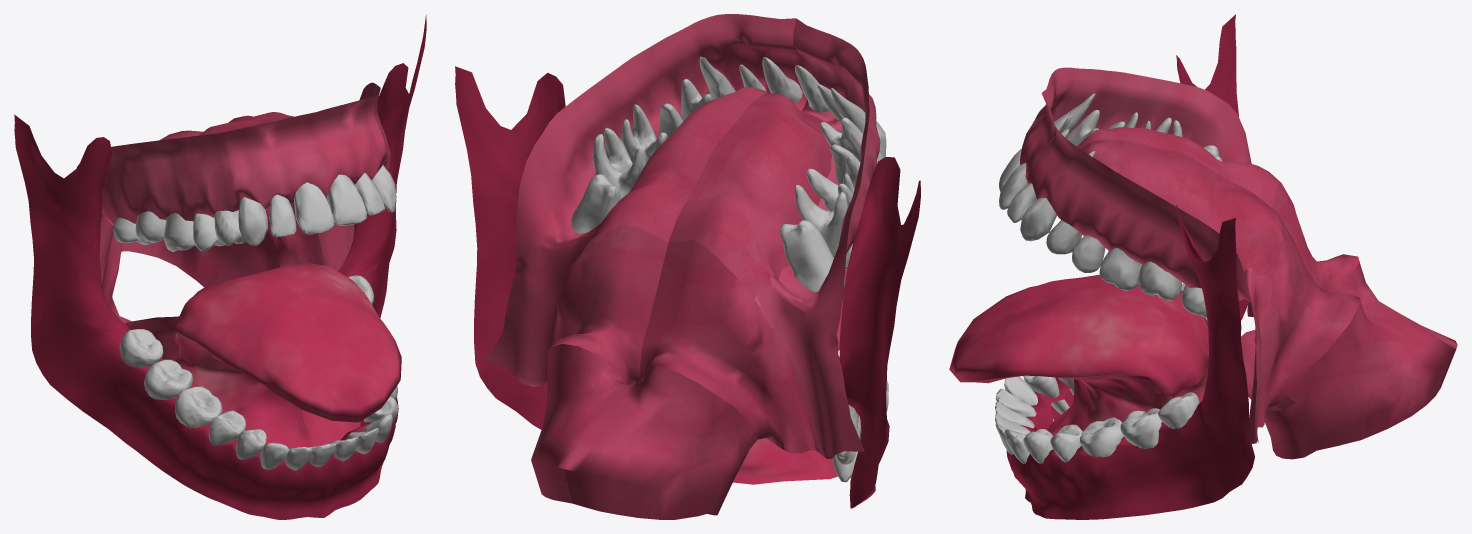
File: Tooth-3.glb
3 renders of one model, left to right at view 1: azimuth 30°, elevation 25°; view 2: azimuth 150°, elevation 25°; view 3: azimuth 270°, elevation 25°, orthographic. The views are drawn at different scales.
Parts seen in each view (by area): view 1: Lower_Jaw_R, Upper_Jaw_R, Tounge_Upper_R, Lower_Jaw_L, Tounge_Upper_L, Upper_Jaw_L, Tounge_Lower_R, Neck, Soft_Plate_L, Teeth_Upper_8, Teeth_Lower_3, Teeth_Lower_2 (+18 smaller); view 2: Upper_Jaw_L, Neck, Soft_Plate_R, Hard_Plate_R, Upper_Jaw_R, Lower_Jaw_L, Lower_Jaw_R, Soft_Plate_L, Hard_Plate_L, Tounge_Upper_R, Teeth_Upper_1, Teeth_Upper_15 (+12 smaller); view 3: Lower_Jaw_L, Tounge_Upper_L, Neck, Upper_Jaw_L, Upper_Jaw_R, Hard_Plate_L, Soft_Plate_L, Tounge_Lower_L, Hard_Plate_R, Tounge_Upper_R, Lower_Jaw_R, Soft_Plate_R (+16 smaller).
Boxes of the visible parts, x1=… form: Lower_Jaw_R: x1=14, y1=114, x2=333, y2=519; Upper_Jaw_R: x1=77, y1=112, x2=326, y2=283; Tounge_Upper_R: x1=173, y1=272, x2=361, y2=422; Lower_Jaw_L: x1=324, y1=15, x2=426, y2=517; Tounge_Upper_L: x1=263, y1=263, x2=401, y2=421; Upper_Jaw_L: x1=313, y1=82, x2=390, y2=270; Tounge_Lower_R: x1=176, y1=333, x2=312, y2=448; Neck: x1=118, y1=230, x2=280, y2=361; Soft_Plate_L: x1=265, y1=202, x2=325, y2=267; Teeth_Upper_8: x1=293, y1=182, x2=334, y2=234; Teeth_Lower_3: x1=174, y1=386, x2=222, y2=427; Teeth_Lower_2: x1=144, y1=359, x2=192, y2=399; Upper_Jaw_L: x1=485, y1=14, x2=806, y2=386; Neck: x1=531, y1=344, x2=784, y2=519; Soft_Plate_R: x1=640, y1=240, x2=815, y2=453; Hard_Plate_R: x1=668, y1=93, x2=832, y2=298; Upper_Jaw_R: x1=755, y1=18, x2=880, y2=458; Lower_Jaw_L: x1=455, y1=66, x2=565, y2=429; Lower_Jaw_R: x1=839, y1=157, x2=920, y2=508; Soft_Plate_L: x1=551, y1=226, x2=668, y2=384; Hard_Plate_L: x1=583, y1=86, x2=768, y2=247; Tounge_Upper_R: x1=733, y1=270, x2=846, y2=484; Teeth_Upper_1: x1=780, y1=220, x2=845, y2=292; Teeth_Upper_15: x1=592, y1=128, x2=646, y2=200; Lower_Jaw_L: x1=1006, y1=204, x2=1254, y2=519; Tounge_Upper_L: x1=949, y1=287, x2=1208, y2=402; Neck: x1=1241, y1=262, x2=1457, y2=459; Upper_Jaw_L: x1=1020, y1=94, x2=1272, y2=443; Upper_Jaw_R: x1=1022, y1=67, x2=1251, y2=316; Hard_Plate_L: x1=1081, y1=139, x2=1282, y2=278; Soft_Plate_L: x1=1257, y1=213, x2=1359, y2=427; Tounge_Lower_L: x1=963, y1=374, x2=1172, y2=435; Hard_Plate_R: x1=1076, y1=127, x2=1280, y2=207; Tounge_Upper_R: x1=949, y1=274, x2=1208, y2=368; Lower_Jaw_R: x1=1026, y1=14, x2=1248, y2=431; Soft_Plate_R: x1=1248, y1=183, x2=1359, y2=316.
Size of the model in its own units: 0.00435 by 0.00403 by 0.00459.
Materials: 45 (45 with a texture image).
